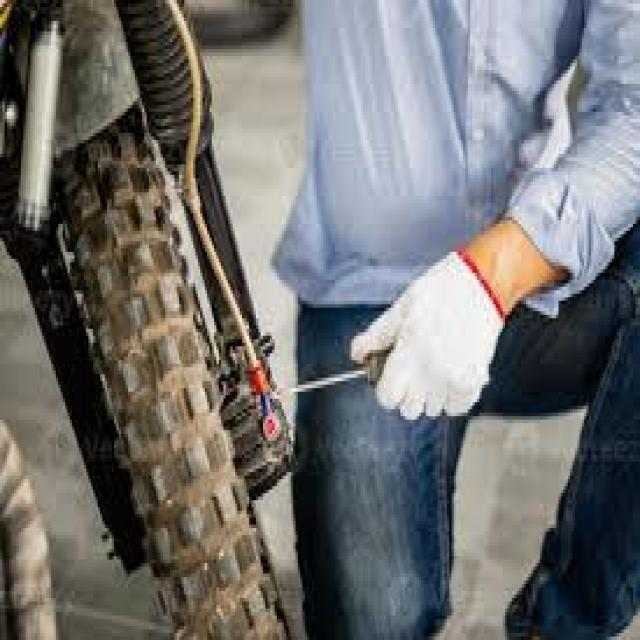screwdriver: (273, 330, 434, 408)
